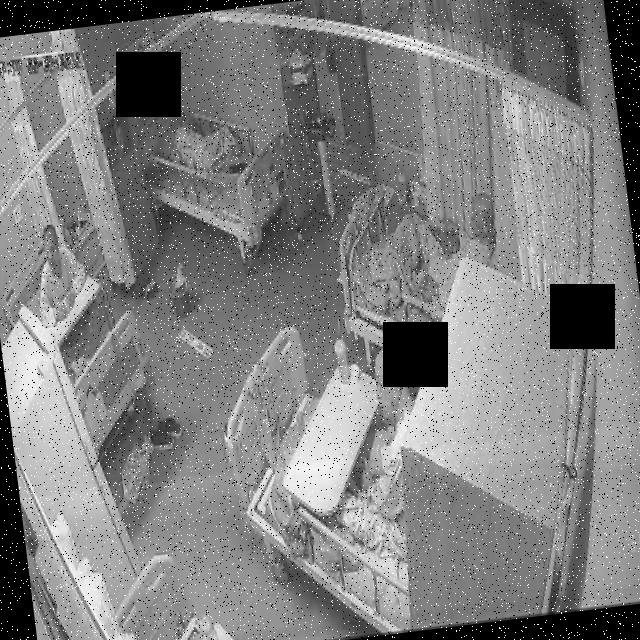bed: (214, 316, 425, 640), (0, 228, 160, 467), (330, 178, 477, 383), (140, 87, 298, 258)
lie: (168, 110, 248, 190)
patient: (314, 338, 434, 566), (402, 182, 504, 312), (27, 220, 93, 328), (168, 110, 248, 189)
sit: (314, 336, 437, 570), (402, 182, 506, 310), (28, 219, 92, 327)
